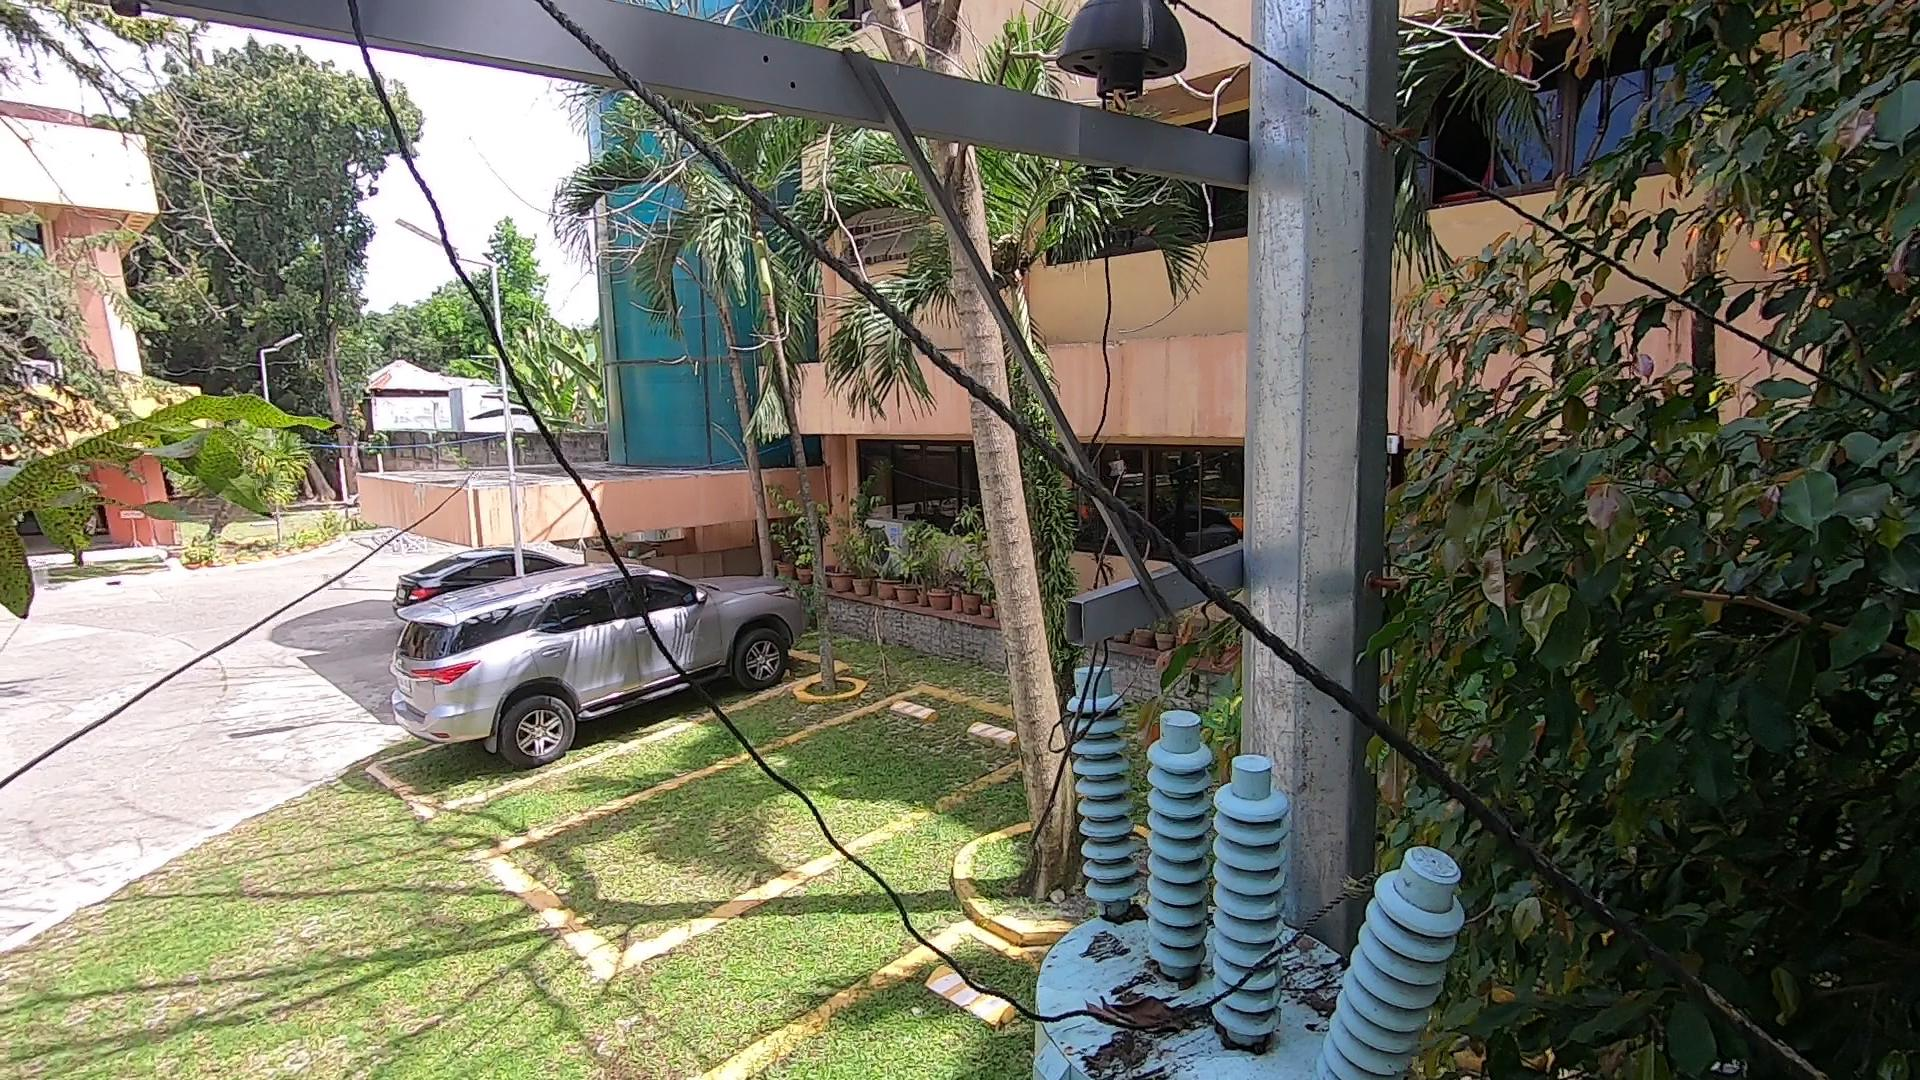leaf: (1085, 977, 1213, 1046), (1102, 895, 1168, 938), (1286, 980, 1336, 1025)
tree branch: (1006, 471, 1188, 872)
